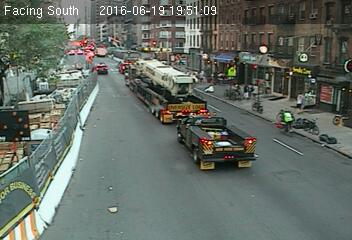neg: (41, 88, 66, 121), (13, 109, 34, 137), (23, 55, 40, 77), (62, 80, 77, 100), (22, 151, 36, 170), (116, 39, 129, 56), (81, 54, 93, 71), (141, 80, 151, 94)
pos: (293, 90, 312, 114), (278, 110, 295, 133), (241, 80, 256, 100), (229, 81, 242, 98)
